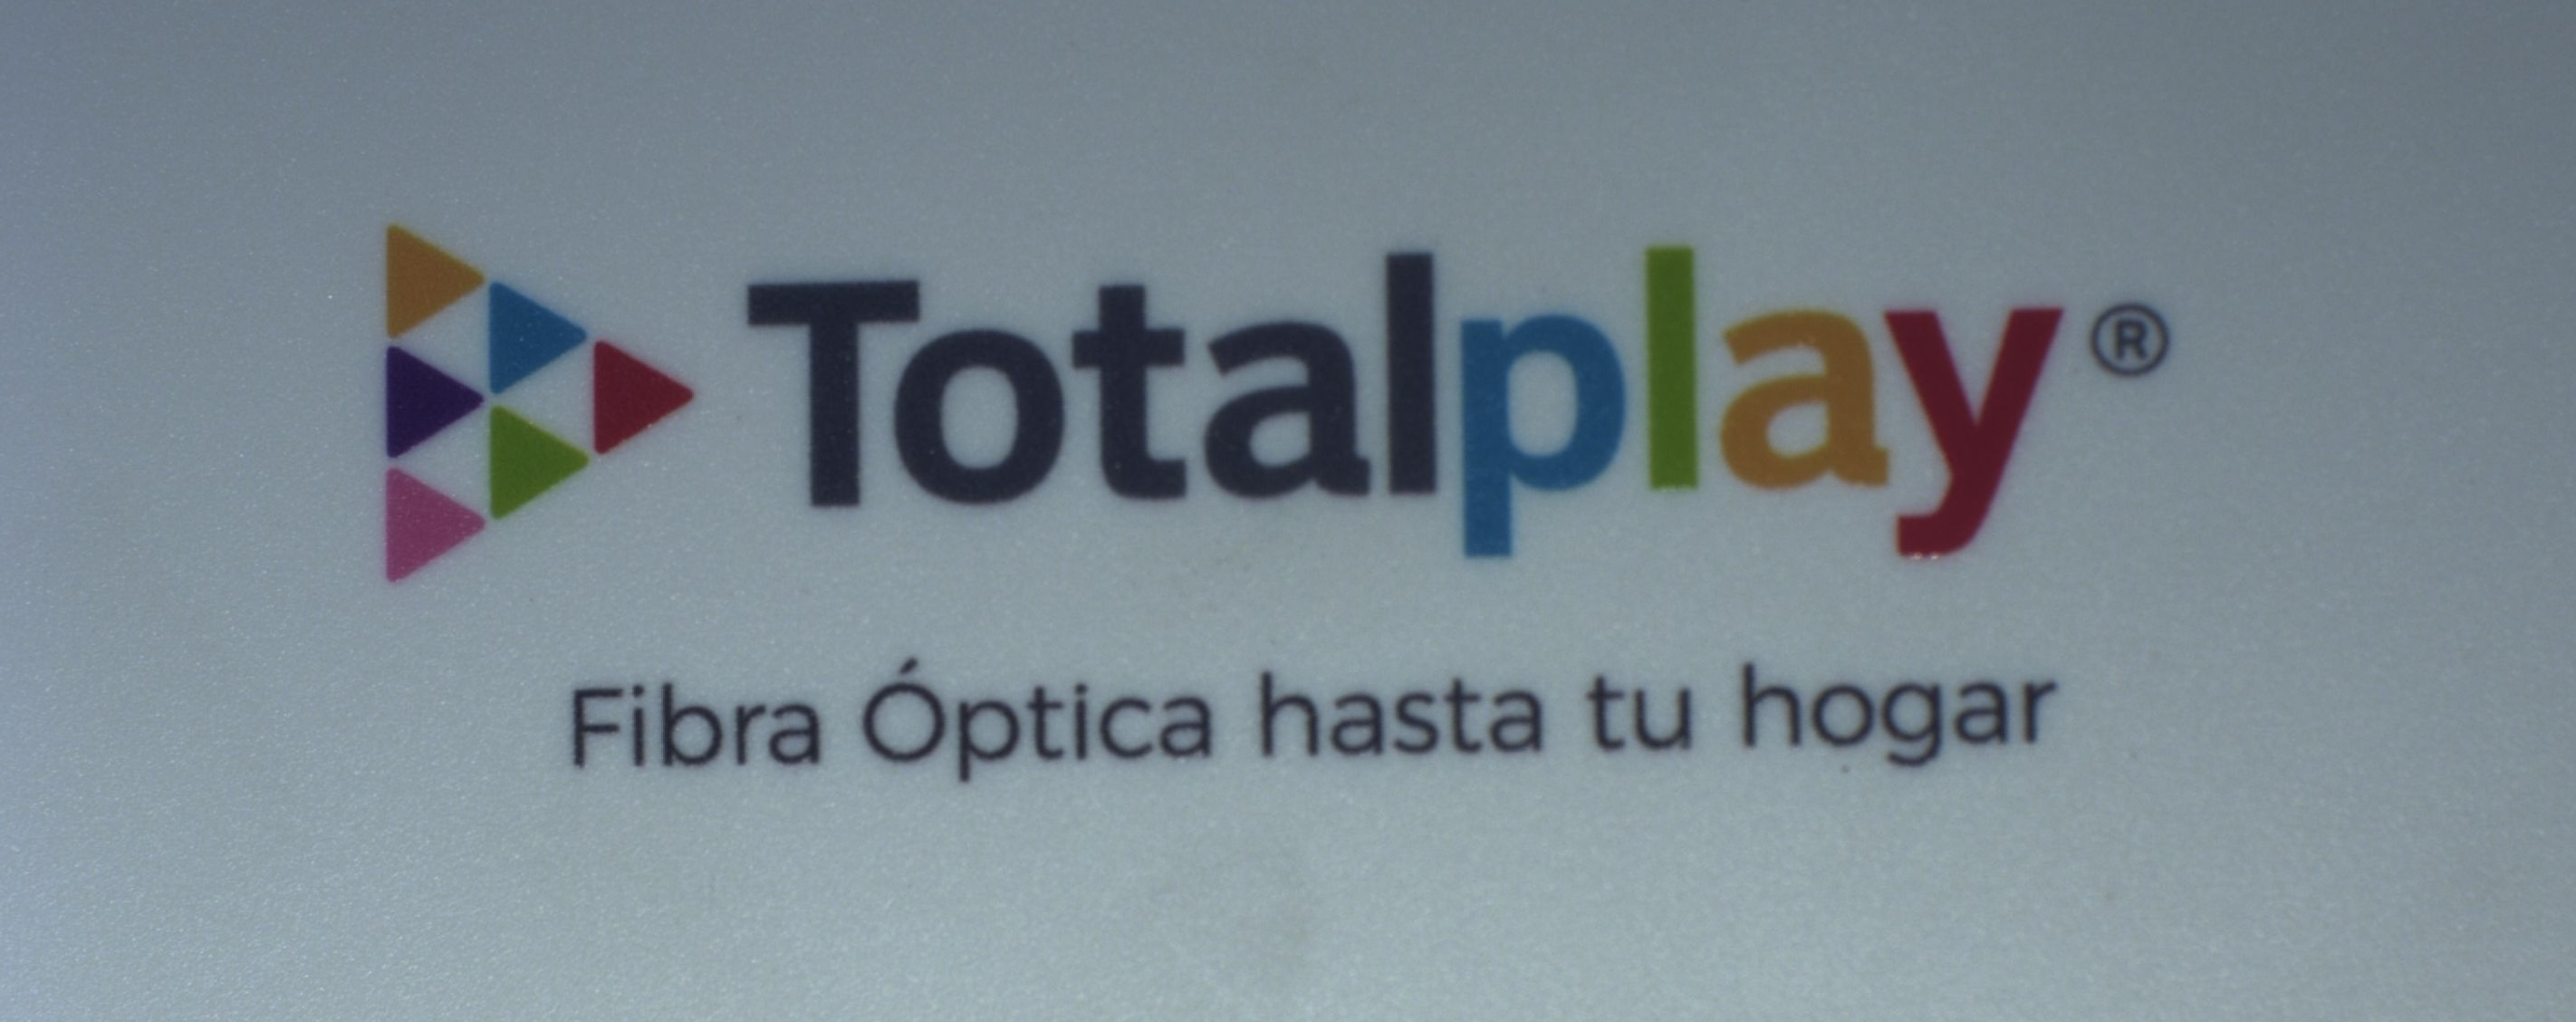BP_TotalPlay: (340, 194, 2215, 807)
